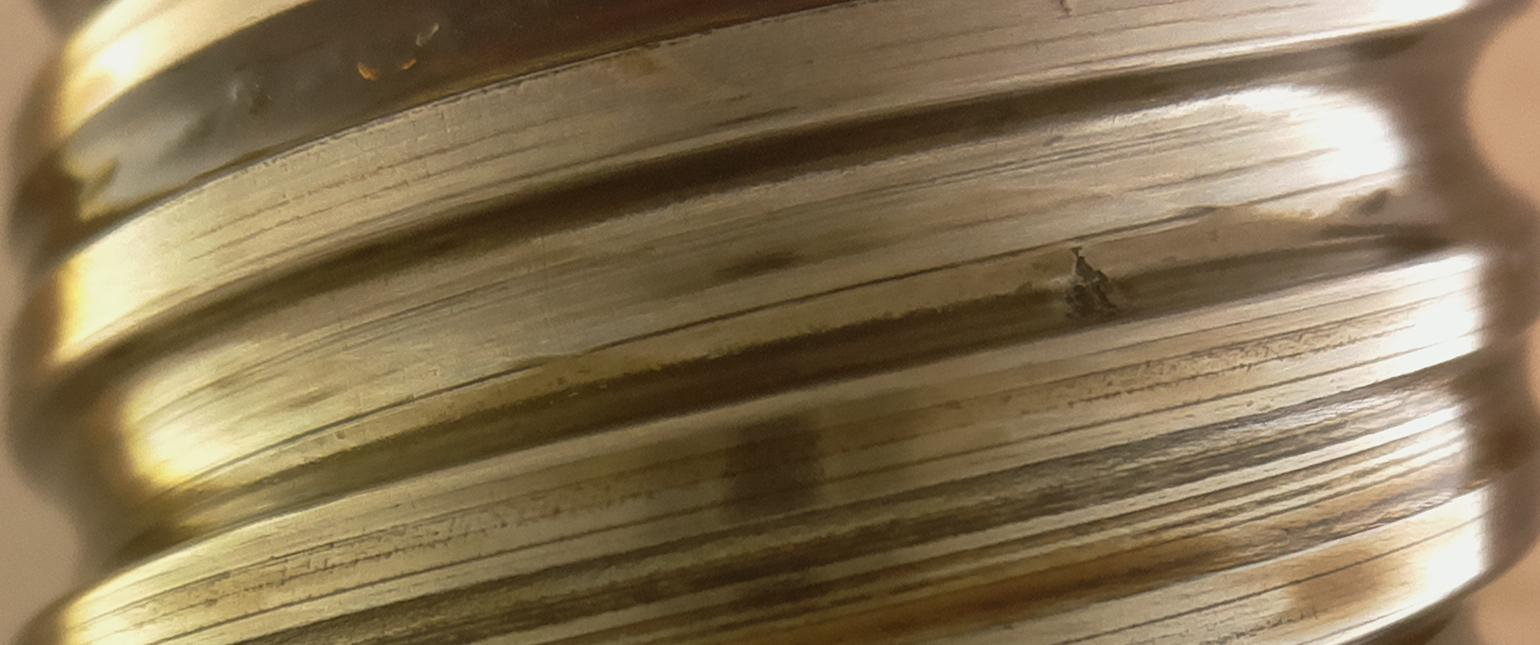pitting: (1064, 246, 1131, 323)
